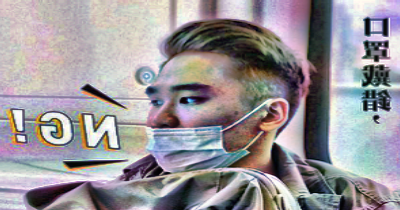mask_weared_incorrect: (144, 81, 250, 173)
